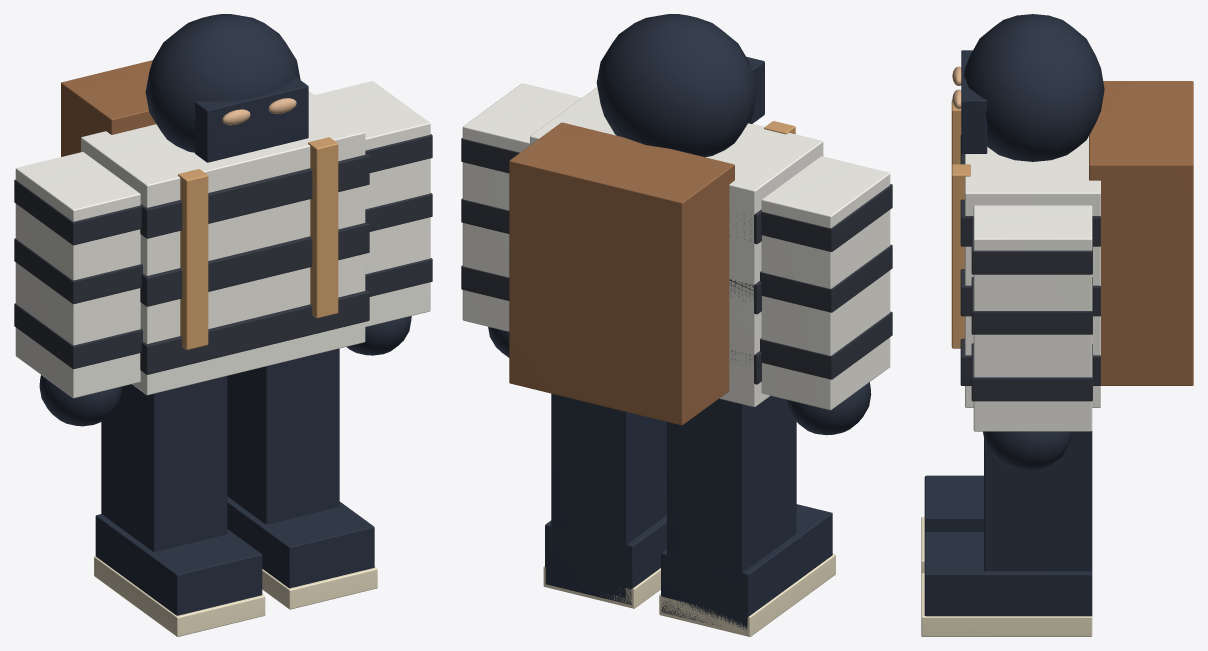
The model's file is robber.glb.
3 views of the same model, side by side, from view 1: azimuth 30°, elevation 25°; view 2: azimuth 150°, elevation 25°; view 3: azimuth 270°, elevation 25° (orthographic). The views are drawn at different scales.
Visible parts, largest first — view 1: Robber; view 2: Robber; view 3: Robber.
Boxes of the visible parts, <box> form: Robber: <box>14,14,432,636</box>; Robber: <box>461,14,892,636</box>; Robber: <box>921,14,1193,636</box>.
Bounding box in the file's own units: 1.22 × 1.79 × 0.78.
